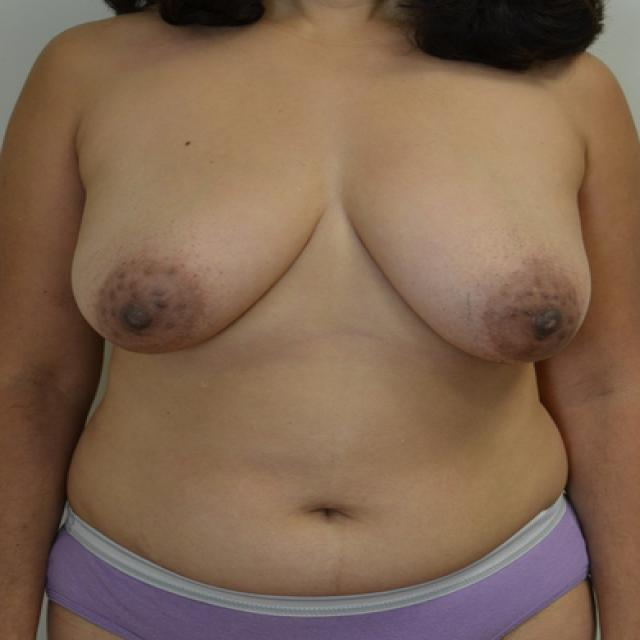Seno ileso: (338, 141, 602, 385), (62, 142, 330, 376)
